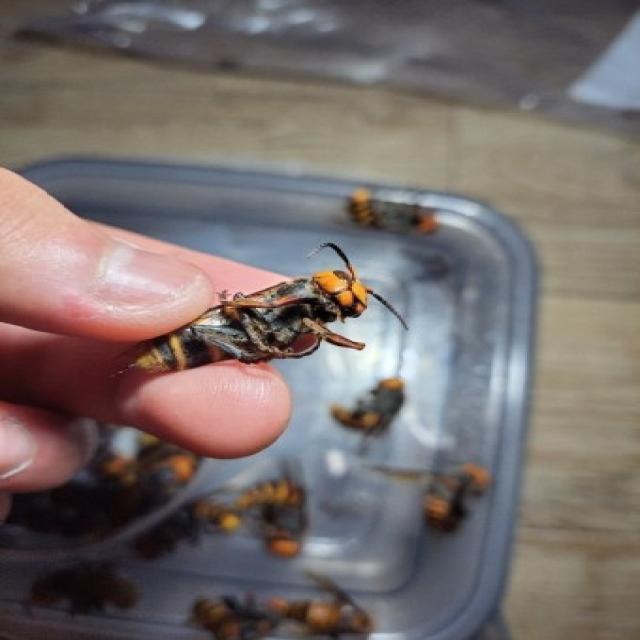Wasp: (119, 240, 406, 378)
